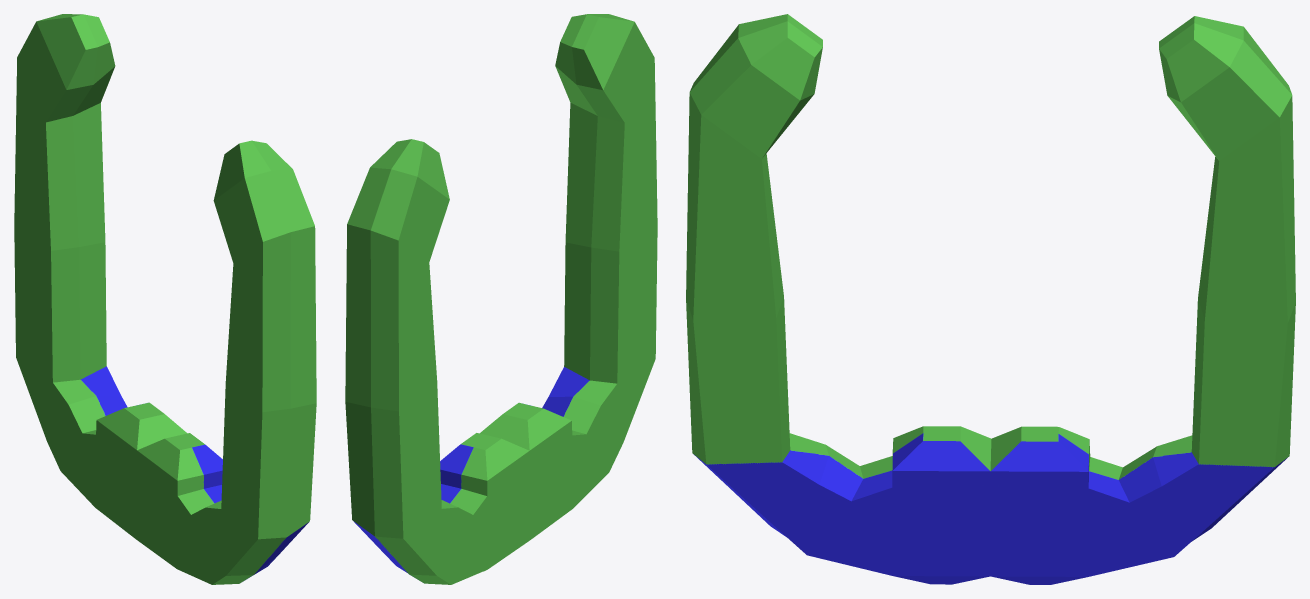
The model's file is GreenShip21.fbx.
The picture shows the model from 3 angles, left to right: view 1: azimuth 30°, elevation 25°; view 2: azimuth 150°, elevation 25°; view 3: azimuth 270°, elevation 25°; orthographic projection. The views are drawn at different scales.
Parts seen in each view (by area): view 1: Cube; view 2: Cube; view 3: Cube.
Boxes of the visible parts, x1,y1,x2,y2 form: Cube: (14,14,316,584); Cube: (345,14,657,584); Cube: (686,14,1295,584).
Bounding box in the file's own units: 88.07 × 632 × 622.
Materials: 1 (1 with a texture image).
